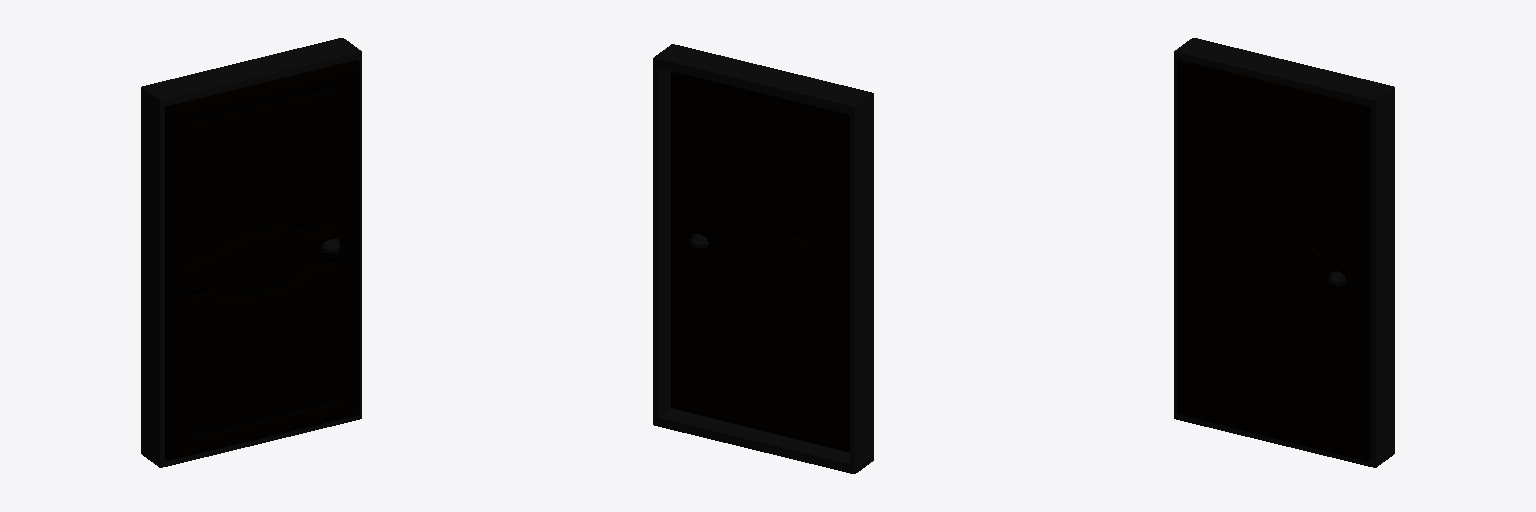
Rendered from drzwiCL.obj.
The picture shows the model from 3 angles: view 1: azimuth 30°, elevation 25°; view 2: azimuth 150°, elevation 25°; view 3: azimuth 330°, elevation 25°; orthographic projection.
Visible parts, largest first — view 1: Door_4.001_Cube.002, Kostka.006_Kostka.001; view 2: Door_4.001_Cube.002, Kostka.006_Kostka.001; view 3: Door_4.001_Cube.002, Kostka.006_Kostka.001.
Boxes of the visible parts, box(x1,y1,x2,y2) form: Door_4.001_Cube.002: box(165, 60, 359, 460); Kostka.006_Kostka.001: box(141, 38, 361, 467); Door_4.001_Cube.002: box(671, 71, 849, 452); Kostka.006_Kostka.001: box(653, 44, 873, 473); Door_4.001_Cube.002: box(1177, 60, 1370, 461); Kostka.006_Kostka.001: box(1174, 38, 1394, 467).
Bounding box in the file's own units: 0.7416 × 1.29 × 0.1772.